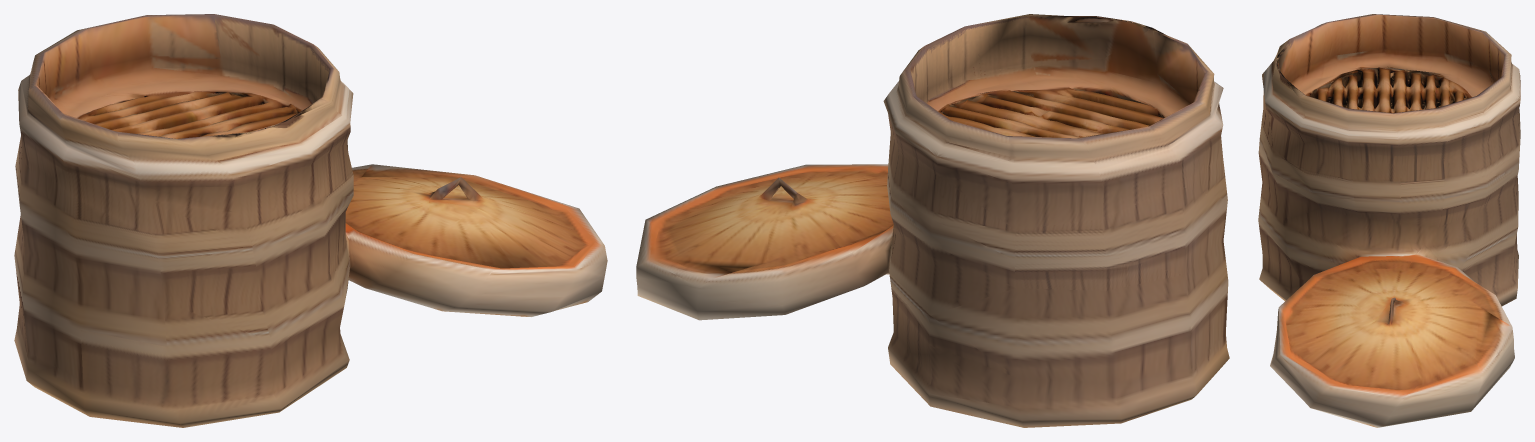
File: Steamer.fbx
3 renders of one model, left to right at view 1: azimuth 30°, elevation 25°; view 2: azimuth 150°, elevation 25°; view 3: azimuth 270°, elevation 25°, orthographic. The views are drawn at different scales.
Visible parts, largest first — view 1: input; view 2: input; view 3: input.
Part boxes in pixels (x1,y1,x2,y2): input: [14, 14, 607, 427]; input: [636, 14, 1229, 427]; input: [1258, 14, 1520, 427].
Bounding box in the file's own units: 191 × 93.78 × 101.
Materials: 1 (1 with a texture image).
